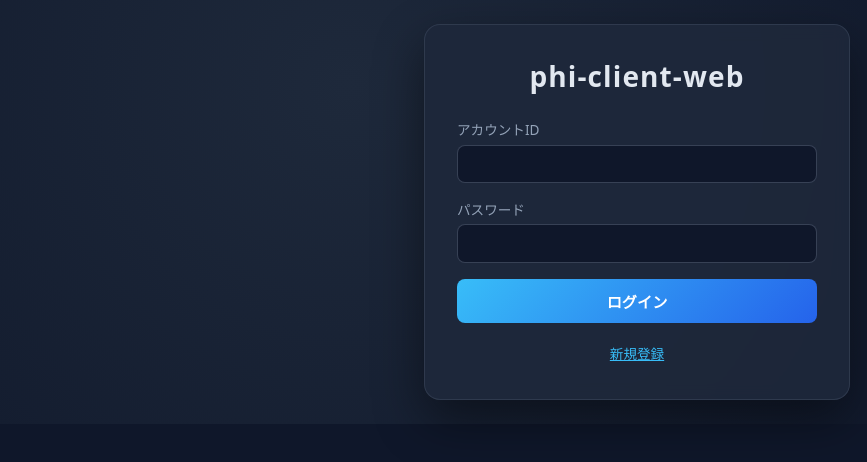
Test case: Login (A-34, アカウント+パスワード) › アカウントID 未入力ではログイン不可(エラー表示)
The width and height of the screenshot is (867, 462).
Type "pw" into the password field labelled "パスワード" at (637, 244), box [457,224,817,263]
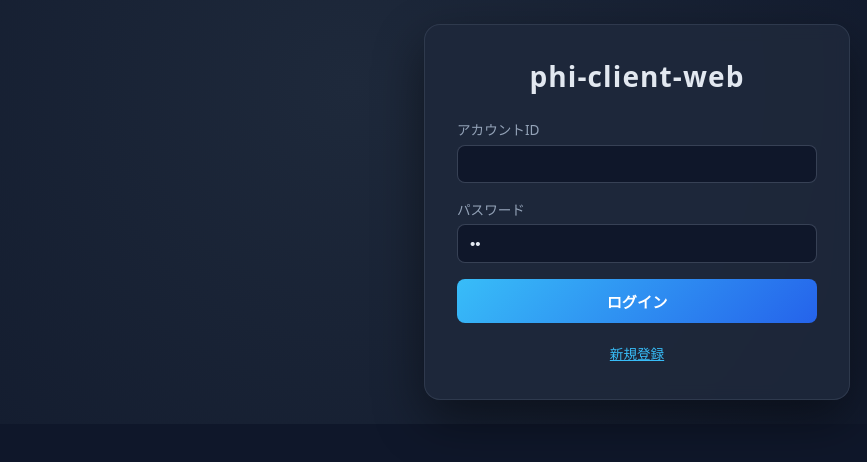
Click the button "ログイン" at (637, 301), box [457,279,817,323]
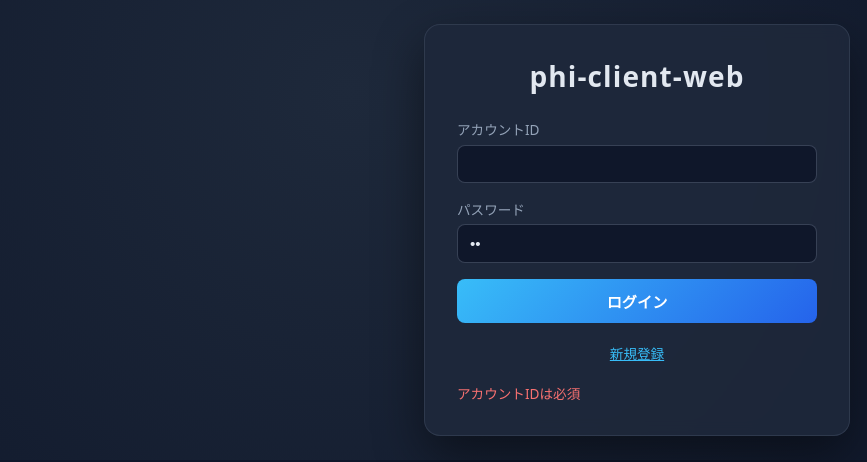
Expected: the message shows "アカウントID", [457,384,580,403]
